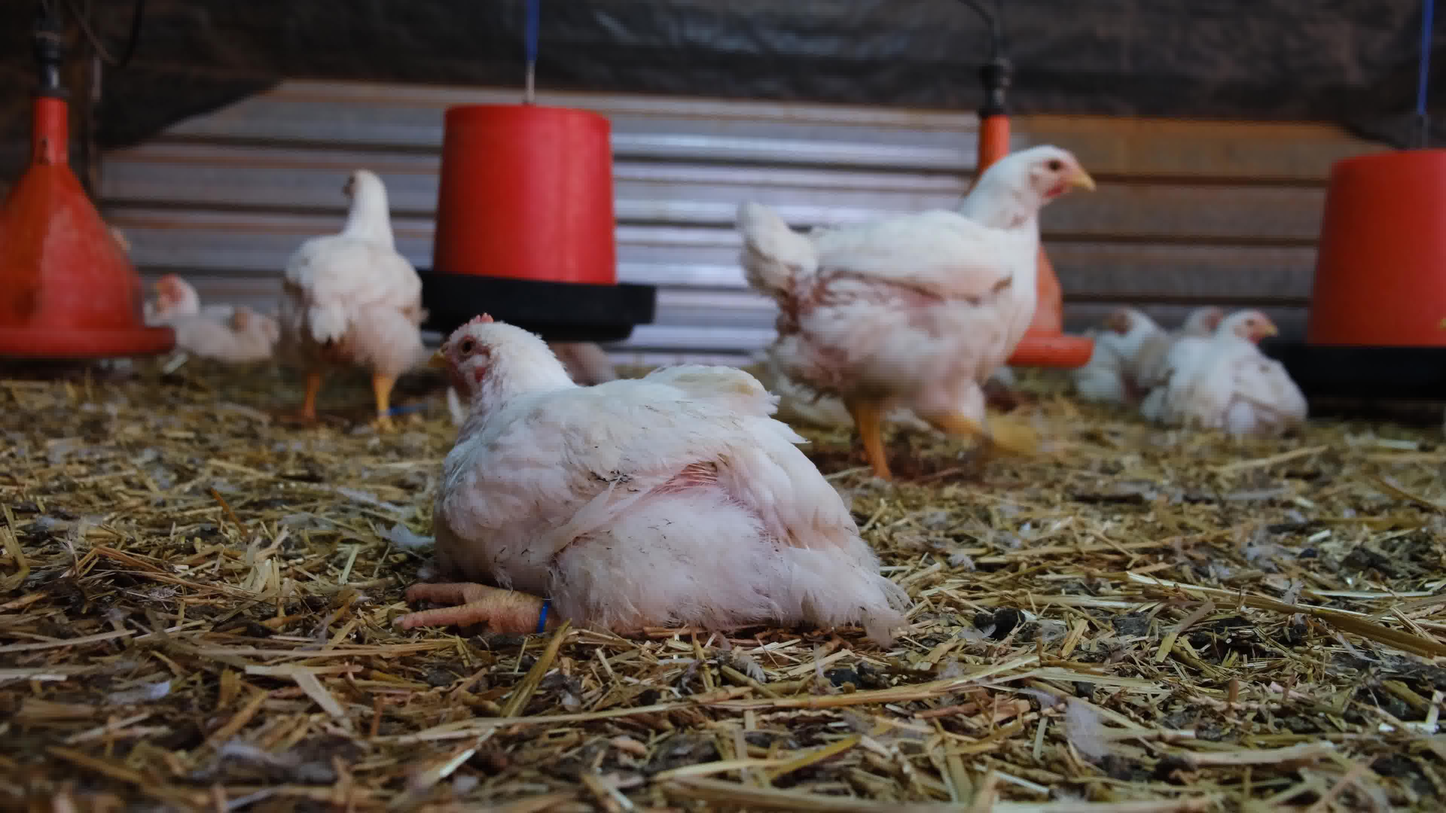AbNormal: (392, 282, 921, 670), (90, 209, 288, 380), (1156, 265, 1324, 463), (1088, 233, 1214, 425)
Normal: (676, 94, 1105, 467), (269, 141, 478, 429)
